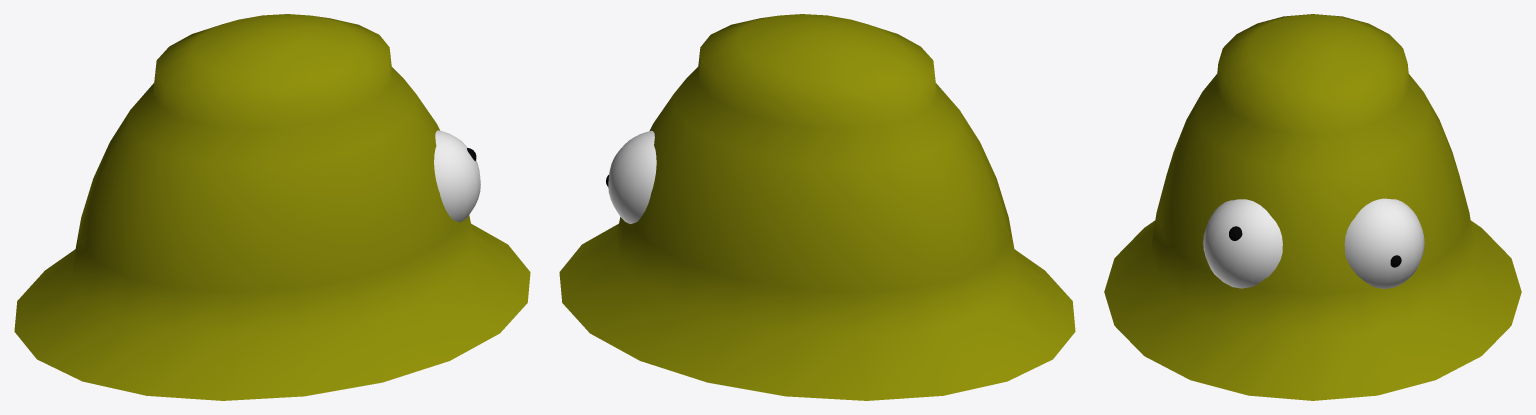
Rendered from Hat5textured.fbx.
The picture shows the model from 3 angles, left to right: view 1: azimuth 30°, elevation 25°; view 2: azimuth 150°, elevation 25°; view 3: azimuth 270°, elevation 25°; orthographic projection. The views are drawn at different scales.
Parts seen in each view (by area): view 1: pasted__pSphere2; view 2: pasted__pSphere2; view 3: pasted__pSphere2.
Part boxes in pixels (<box>): pasted__pSphere2: <box>14,14,530,400</box>; pasted__pSphere2: <box>559,14,1075,400</box>; pasted__pSphere2: <box>1104,14,1521,400</box>.
Bounding box in the file's own units: 1.82 × 1 × 1.48.
